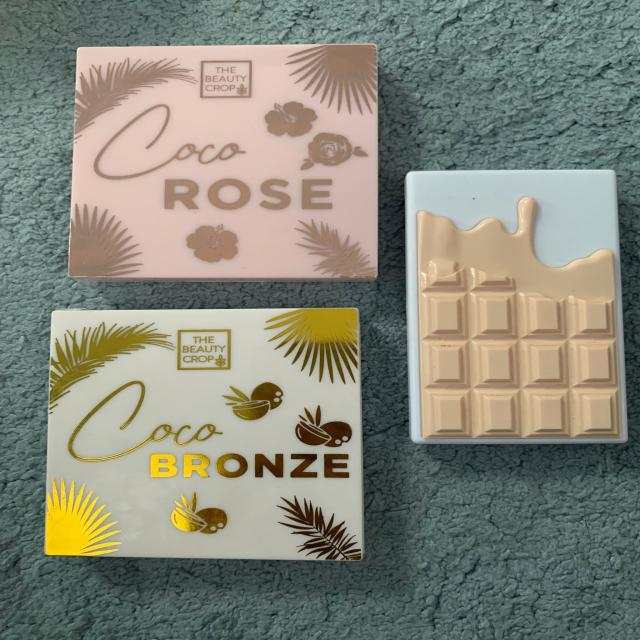eye shade: (36, 297, 367, 559), (78, 44, 382, 283)
highlighter: (407, 170, 626, 447)
